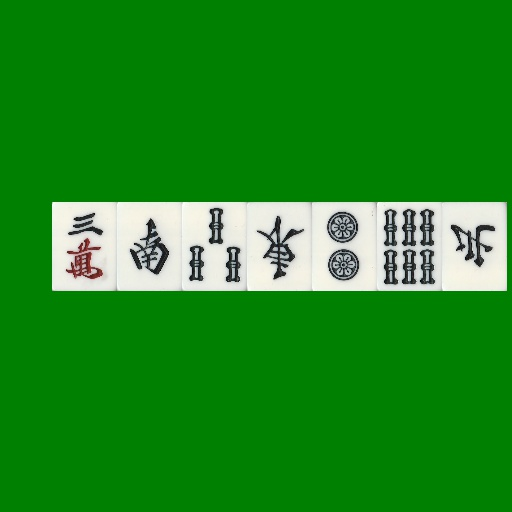2p: (312, 202, 377, 291)
3m: (52, 202, 117, 291)
3s: (182, 202, 247, 291)
6s: (377, 202, 442, 291)
east: (247, 202, 312, 291)
north: (442, 202, 507, 291)
south: (117, 202, 182, 291)
